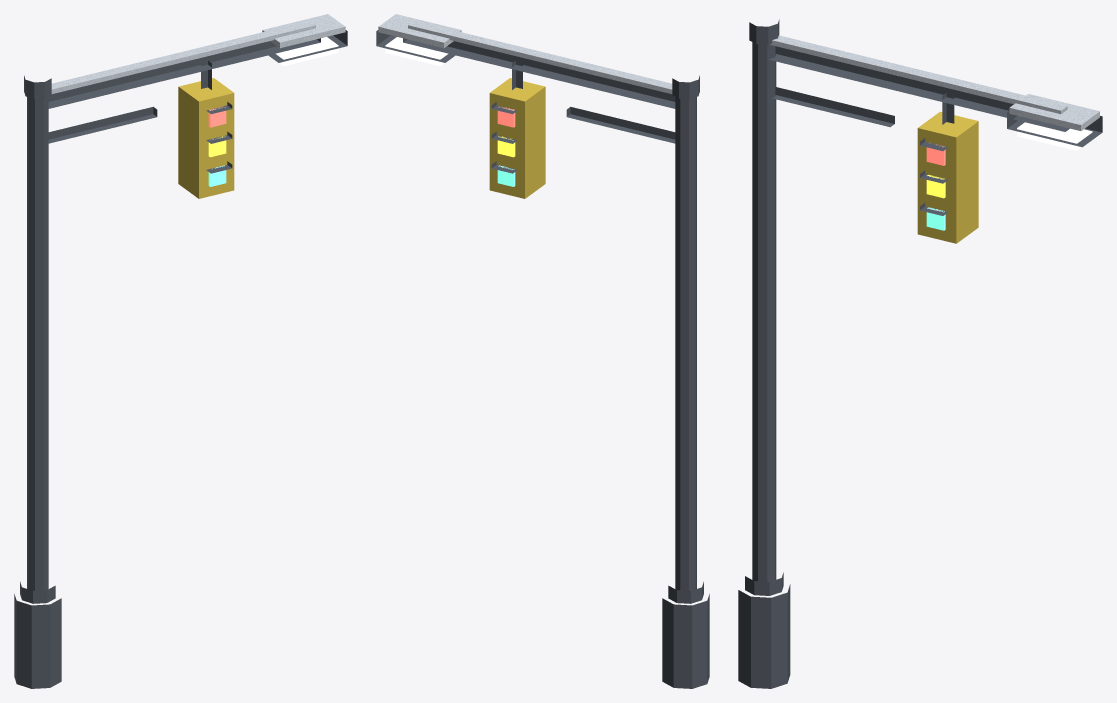
The model's file is nyc_traffic_lamp.glb.
3 views of the same model, side by side, from view 1: azimuth 30°, elevation 25°; view 2: azimuth 150°, elevation 25°; view 3: azimuth 330°, elevation 25° (orthographic). The views are drawn at different scales.
Visible parts, largest first — view 1: nyc_traffic_lamp.glb; view 2: nyc_traffic_lamp.glb; view 3: nyc_traffic_lamp.glb.
Boxes of the visible parts, x1,y1,x2,y2 form: nyc_traffic_lamp.glb: (14,14,347,688); nyc_traffic_lamp.glb: (376,14,709,688); nyc_traffic_lamp.glb: (738,19,1102,688).
Size of the model in its own units: 3.63 by 6.49 by 0.6.
Materials: 7 (1 with a texture image).
